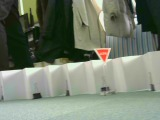stop: (93, 47, 111, 66)
